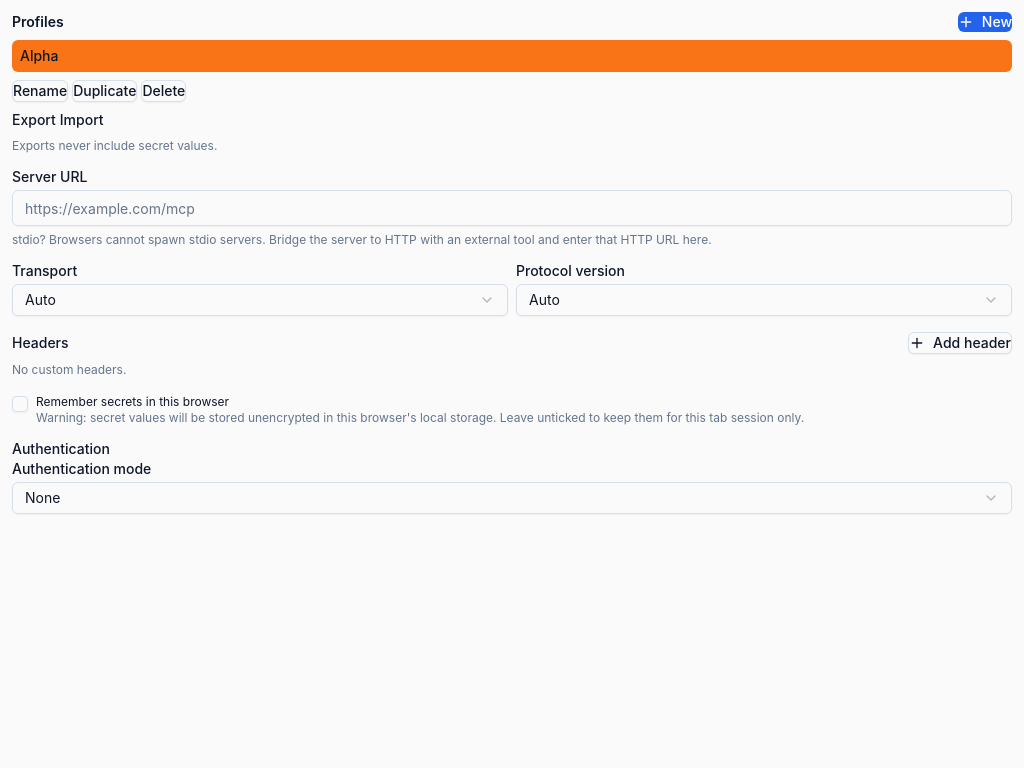
Test: profile list › Duplicate adds "<name> (copy)" and selects it
Click the button "Duplicate" at (105, 91), box [72, 80, 137, 102]
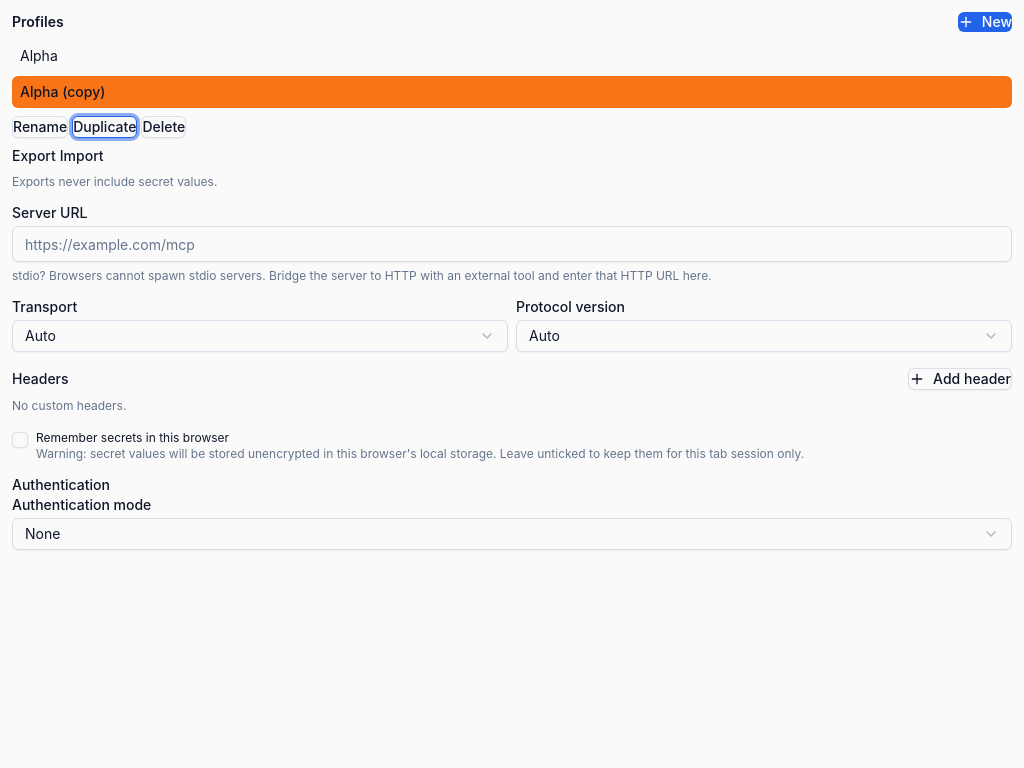
Result: the button "Alpha (copy)" is shown at [12, 76, 1012, 108]
